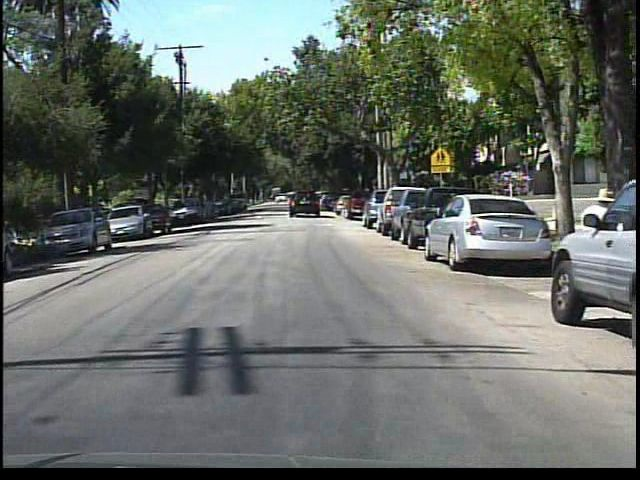person: (574, 175, 616, 310)
